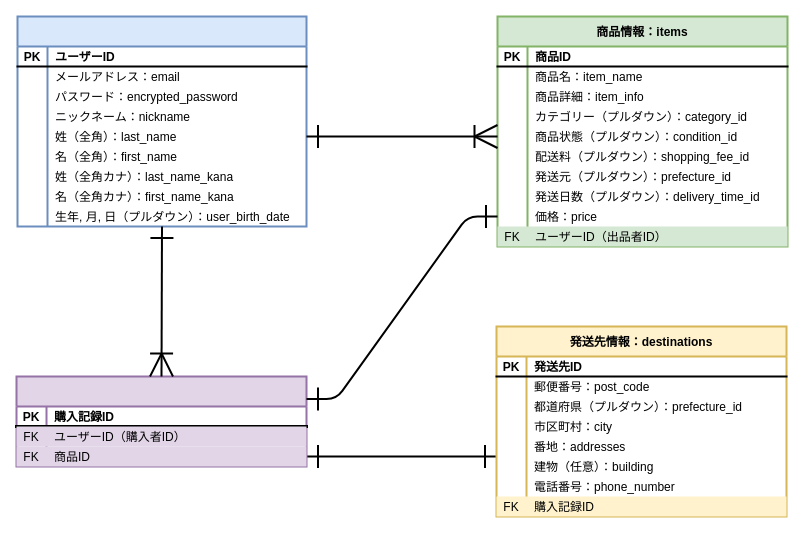
Image size: 804x533. Some labels were removed from this diagram. Each missing label, with the box of its shape:
ユーザー情報：users: (16, 15, 307, 227)
購入記録：orders: (15, 375, 307, 467)
